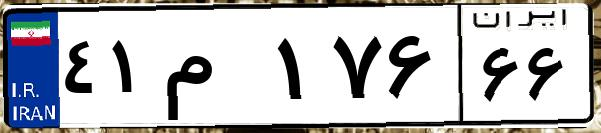1: (270, 28, 330, 110), (110, 28, 158, 98)
4: (57, 26, 110, 100)
6: (385, 28, 445, 110), (475, 38, 525, 113), (525, 38, 570, 115)
7: (330, 28, 385, 110)
م: (158, 20, 270, 120)
